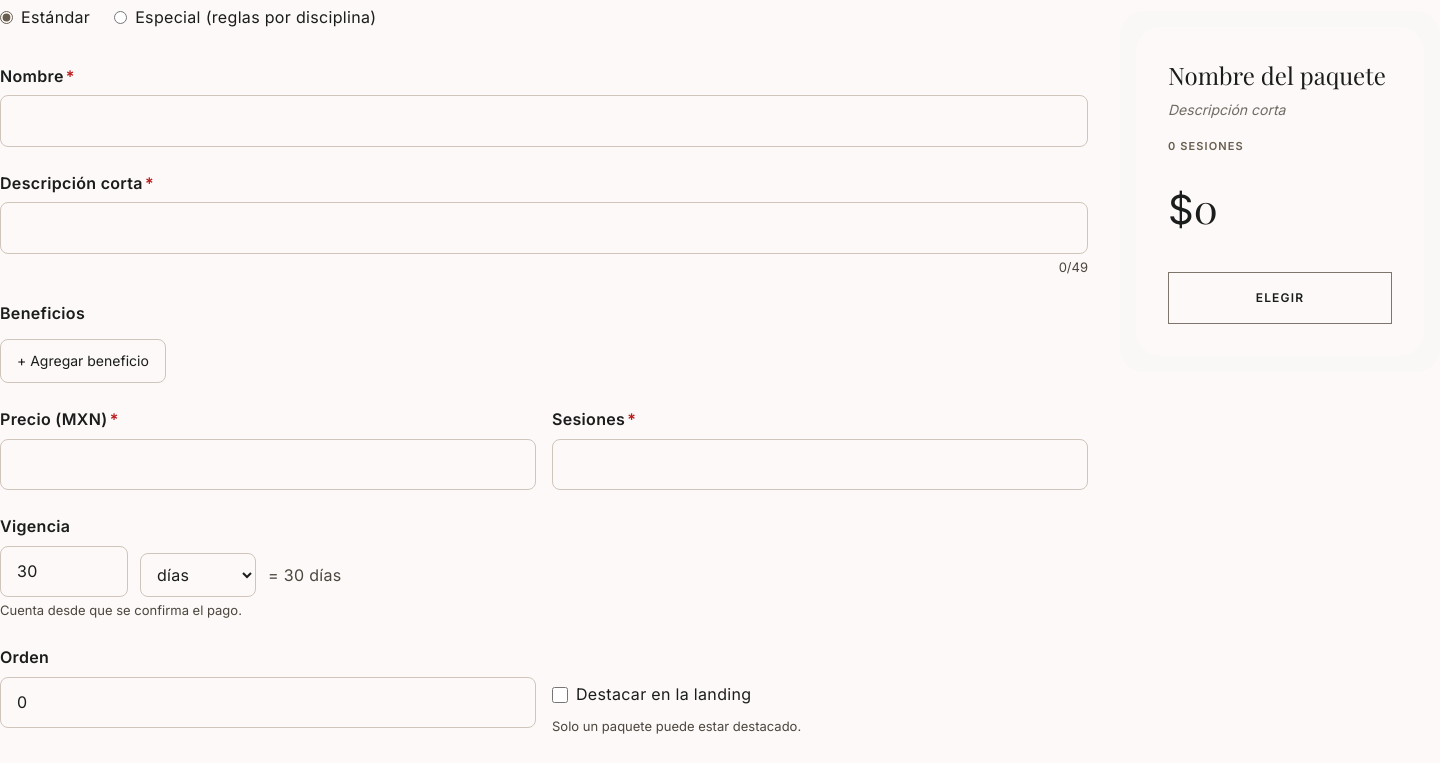
Scenario: PackageForm — envío › muestra bajo su campo los fieldErrors del servidor
In the field labelled "Nombre*": (544, 121) [0,95,1088,147], type "Lab Entry"
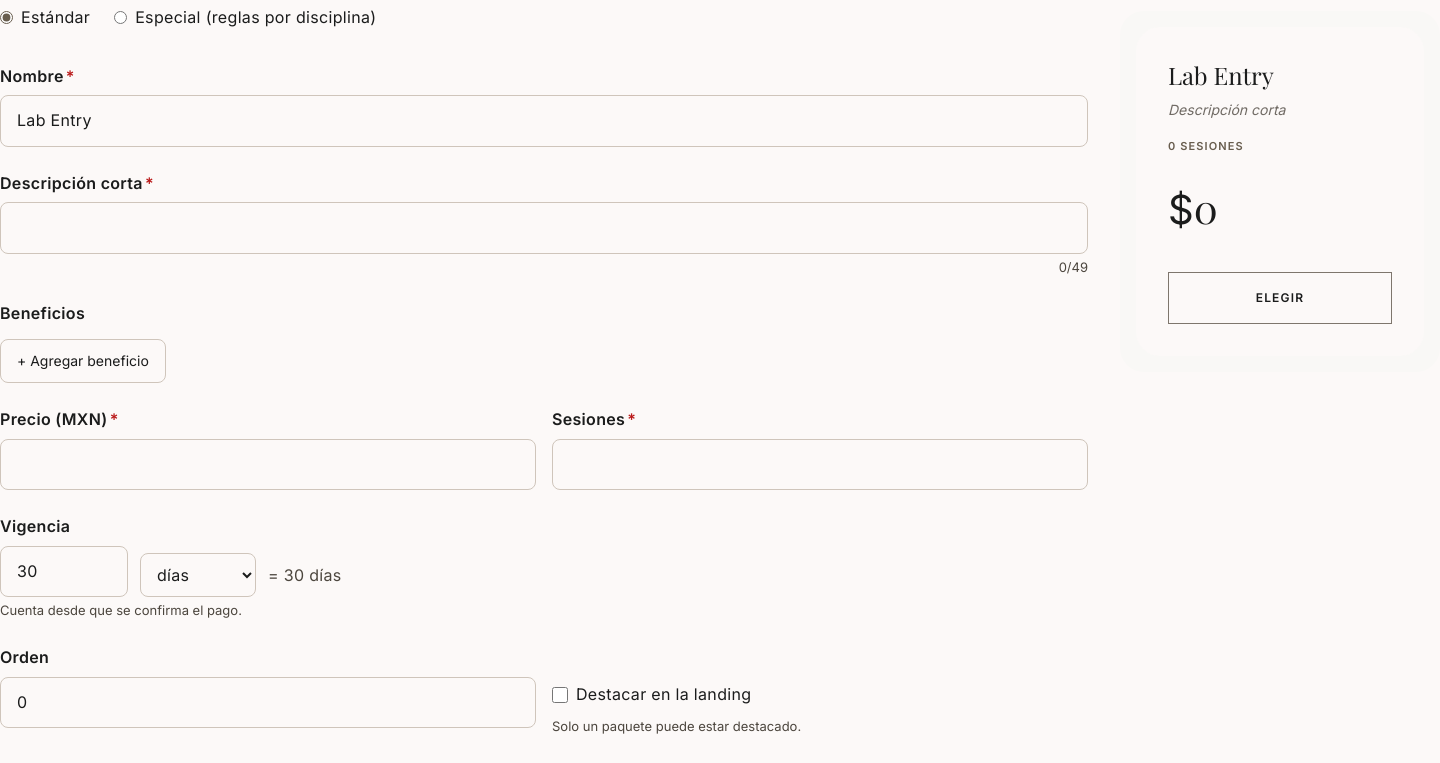
In the field labelled "Descripción corta*": (544, 228) [0,202,1088,254], type "Empieza a descubrir de lo que eres capaz."
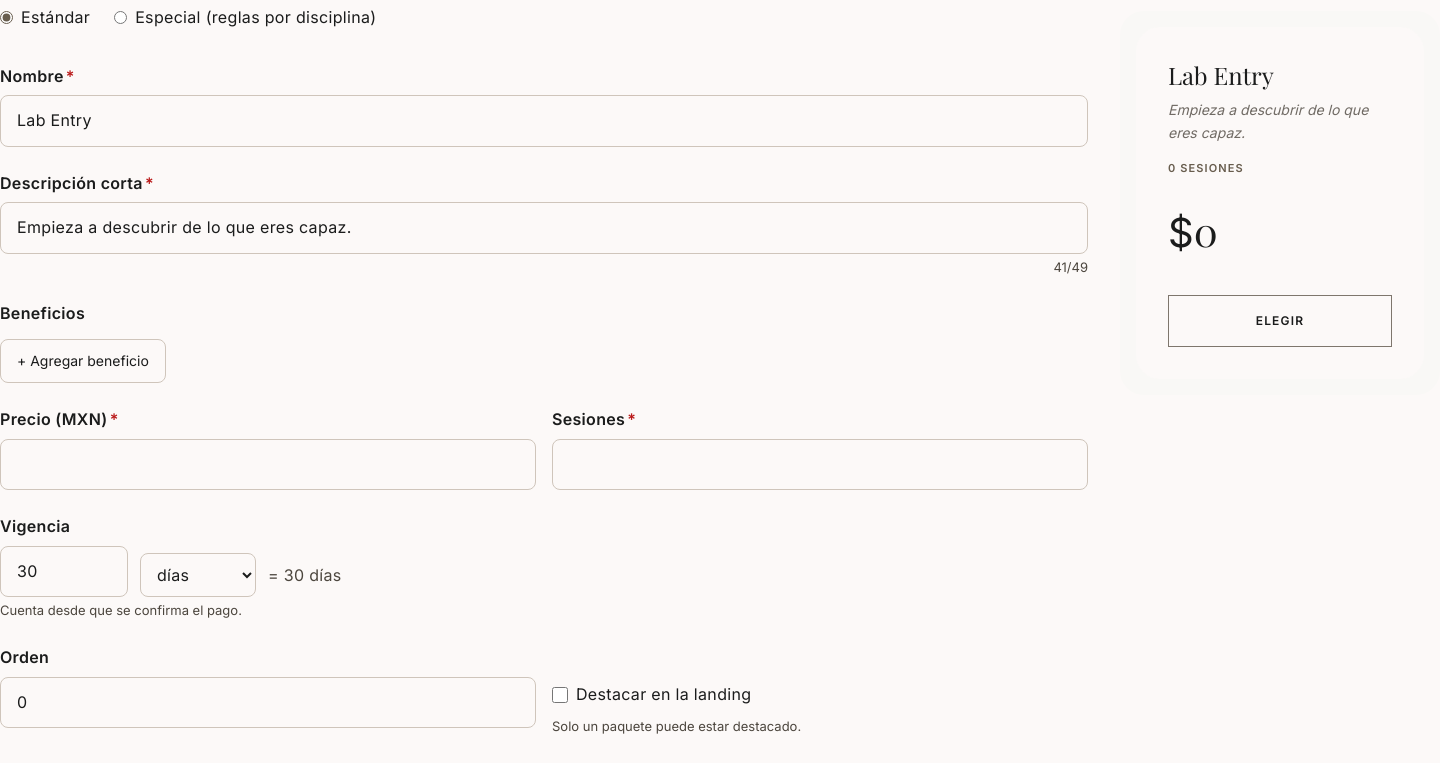
In the number field labelled "Precio (MXN)*": (268, 464) [0,439,536,490], type "360"
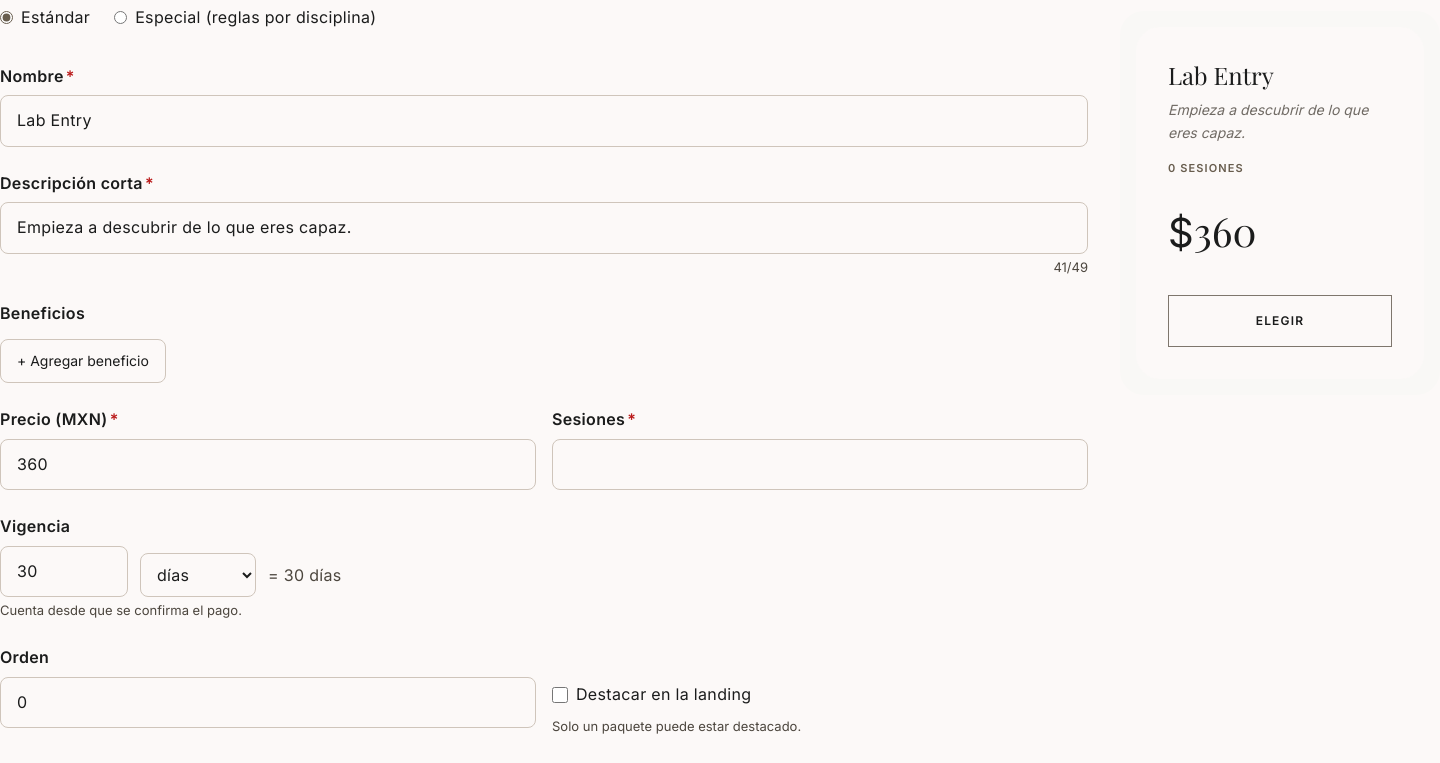
In the number field labelled "Sesiones*": (820, 464) [552,439,1088,490], type "4"
(page scrolled)
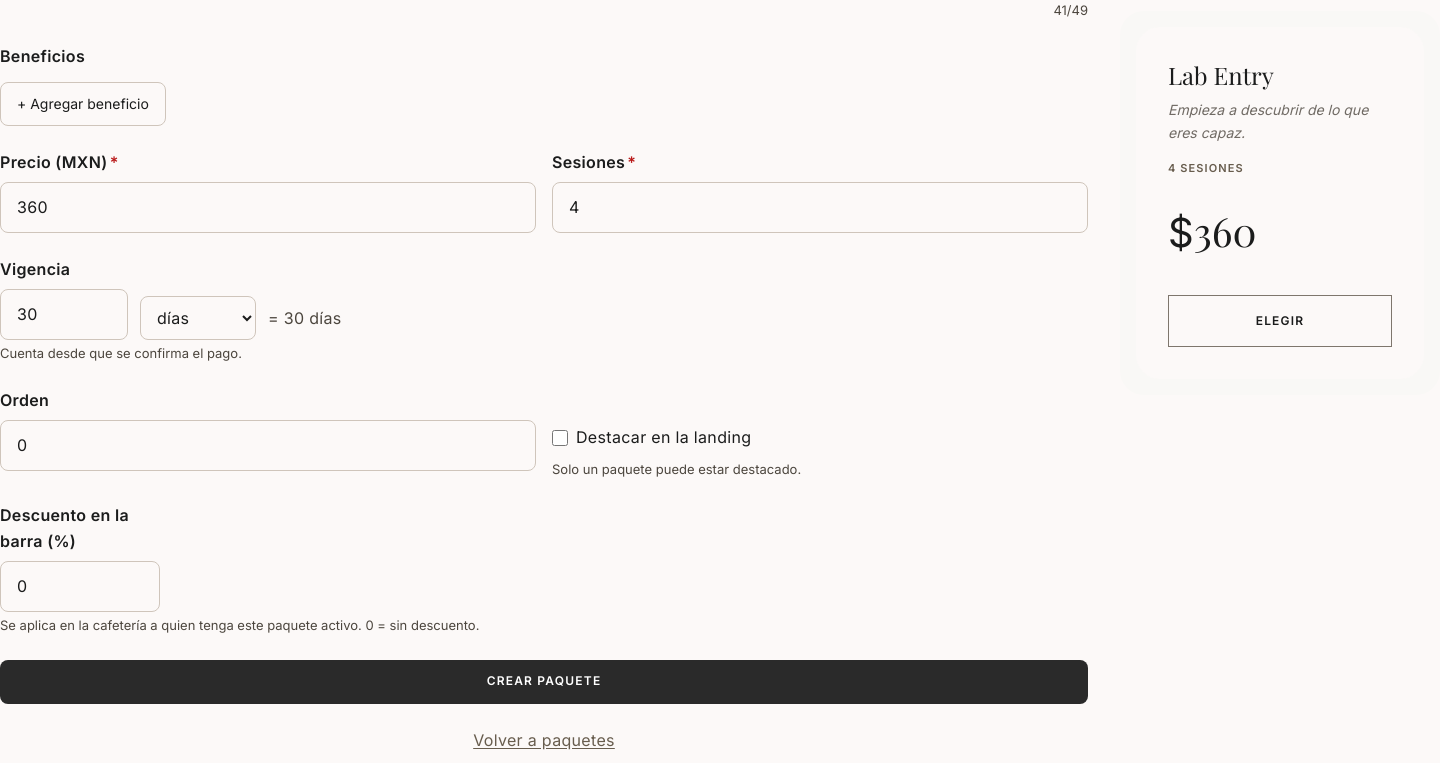
Click the button "Crear paquete": (544, 682) [0,660,1088,704]
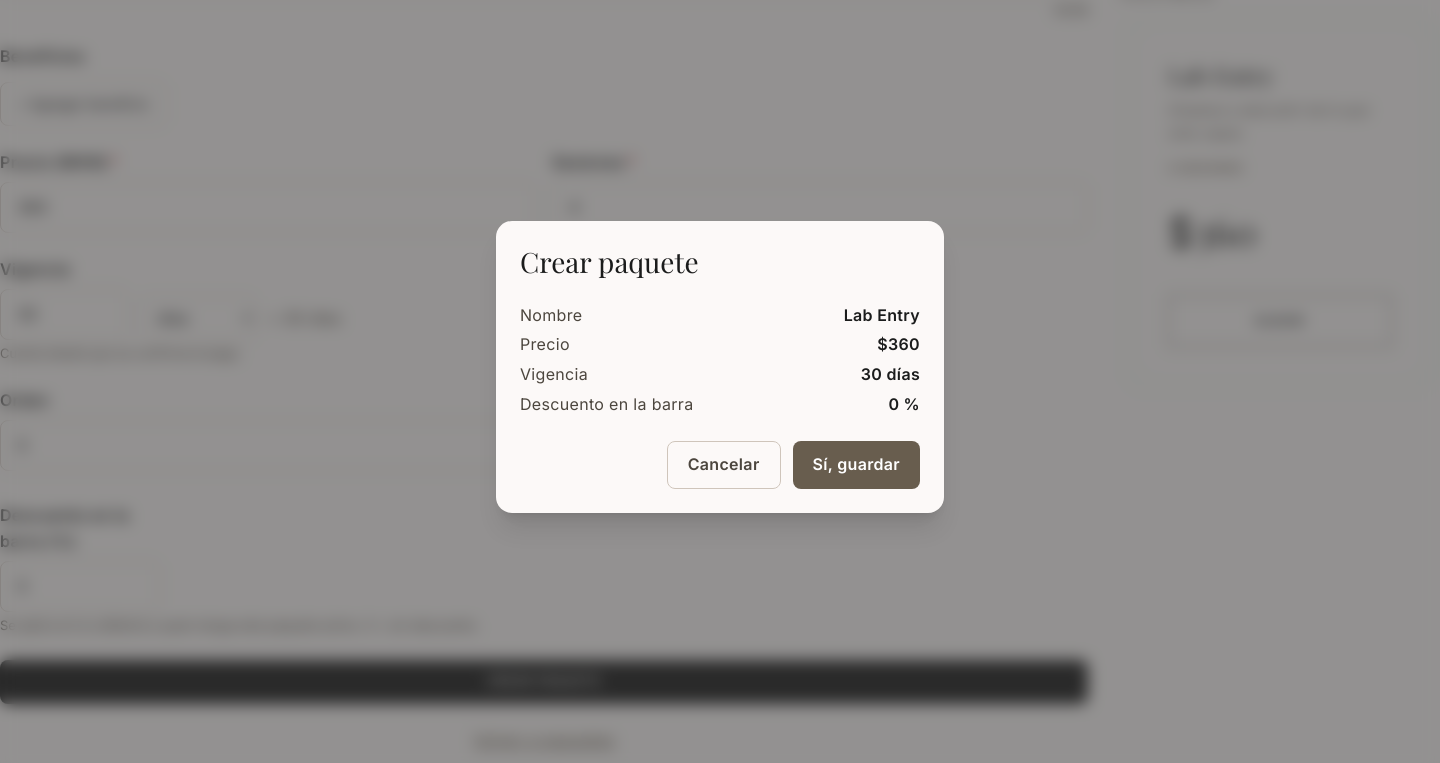
Click the button "Sí, guardar": (856, 465) [793,441,920,489]
(page scrolled)
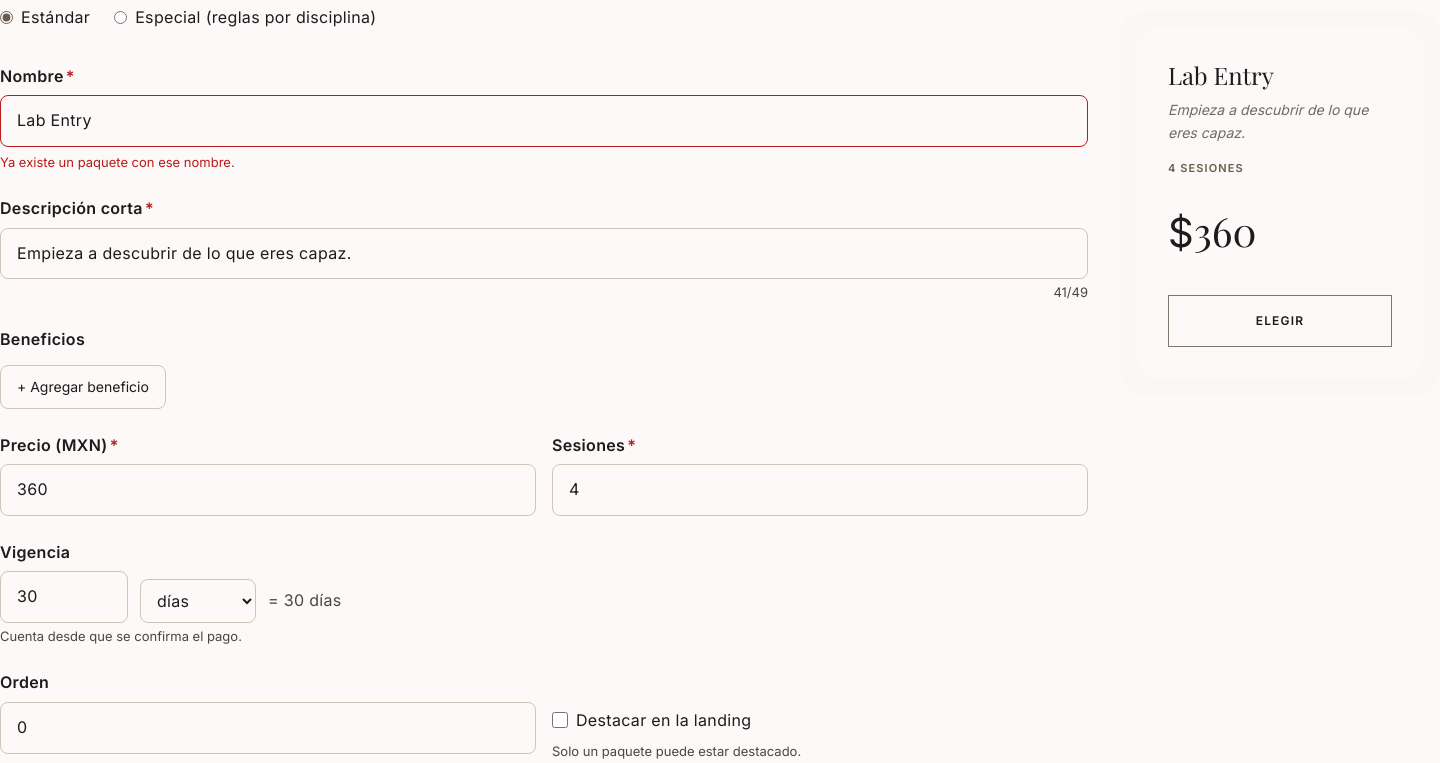
Now the text "Ya existe un paquete con ese nombre." is shown, box [0,154,235,170]
